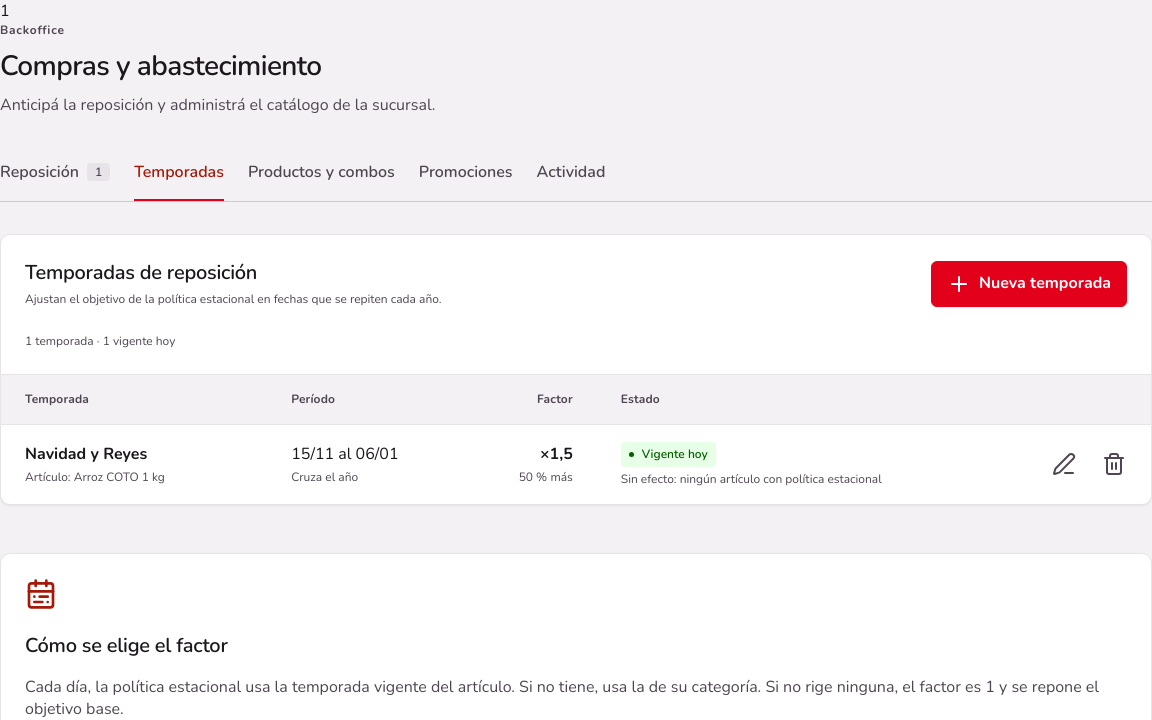
Test case: temporadas de reposición › edita y elimina con confirmación
Later steps or results of the test are not shown.
expect the text with test id "revision" is shown: met, box [0, 0, 10, 22]
expect the row "Navidad" is shown: met, box [1, 424, 1151, 504]
Click the button named "Editar temporada Navidad y Reyes" at coordinates (1064, 464), box [1043, 443, 1085, 485]
(page scrolled)
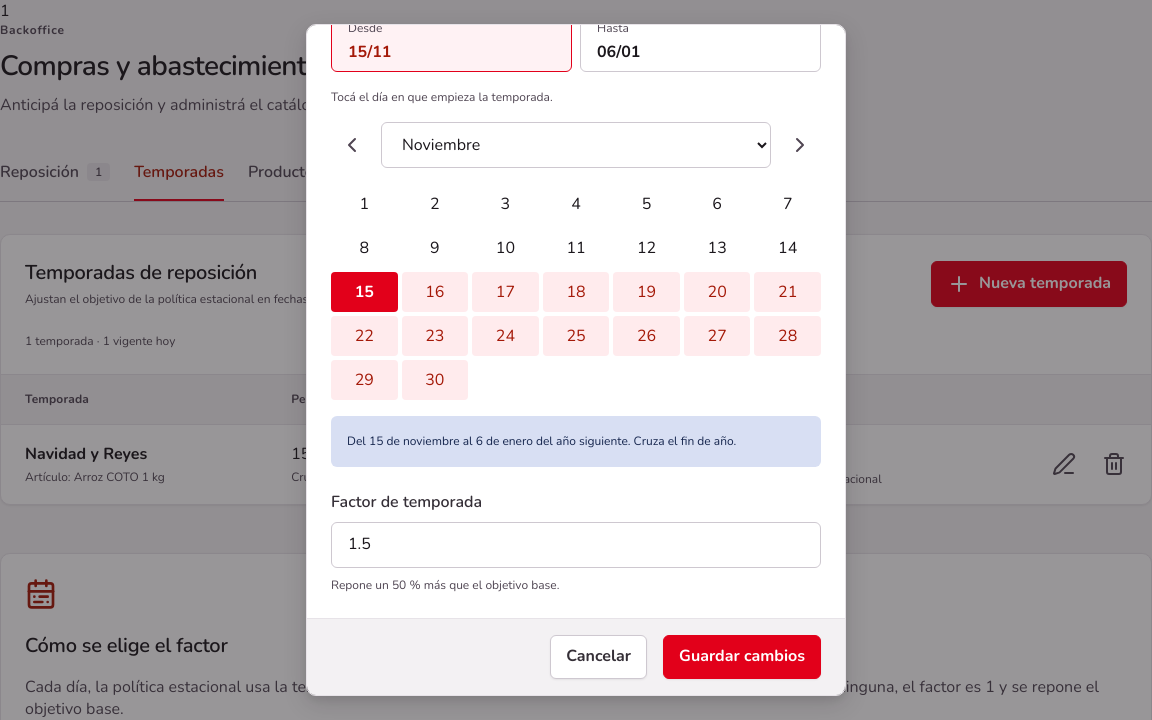
expect the number field labelled "Factor de temporada" holds "1.5": met, box [331, 522, 821, 568]
